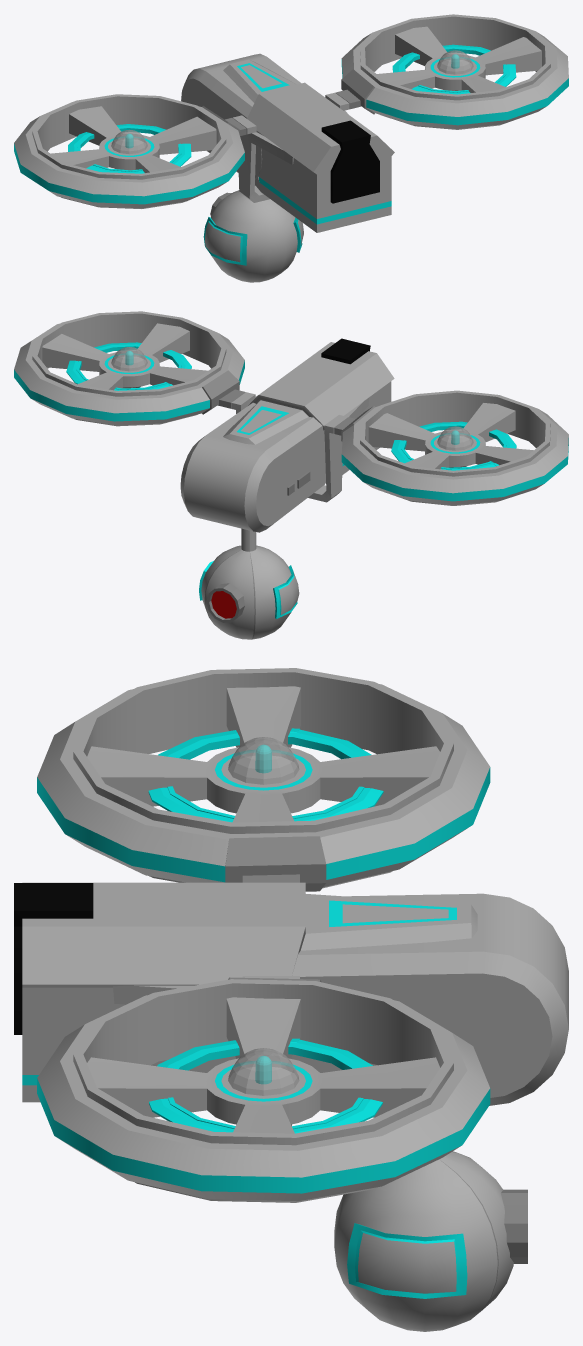
File: Ennemi_drone.fbx
The picture shows the model from 3 angles, top to bottom: view 1: azimuth 30°, elevation 25°; view 2: azimuth 150°, elevation 25°; view 3: azimuth 270°, elevation 25°; orthographic projection. The views are drawn at different scales.
Visible parts, largest first — view 1: corps, couille; view 2: corps, couille, oeil_vision; view 3: corps, couille, oeil_vision.
Boxes of the visible parts, bbox=[...] form: corps: bbox=[14, 14, 568, 232]; couille: bbox=[203, 185, 303, 282]; corps: bbox=[14, 311, 568, 532]; couille: bbox=[199, 528, 299, 639]; oeil_vision: bbox=[206, 583, 245, 622]; corps: bbox=[14, 668, 568, 1202]; couille: bbox=[334, 1151, 513, 1331]; oeil_vision: bbox=[501, 1189, 527, 1263].
Bounding box in the file's own units: 3.37 × 1.33 × 1.58.
